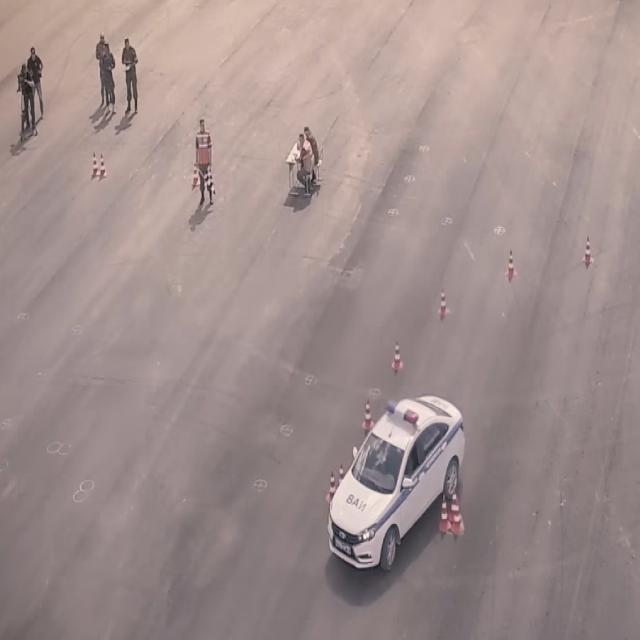police car: (324, 389, 469, 580)
